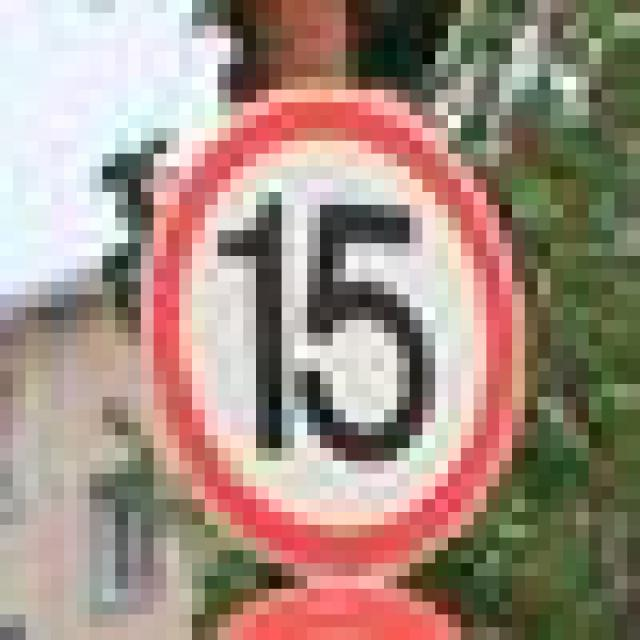SPEED_LIMIT_15: (115, 64, 525, 576)
